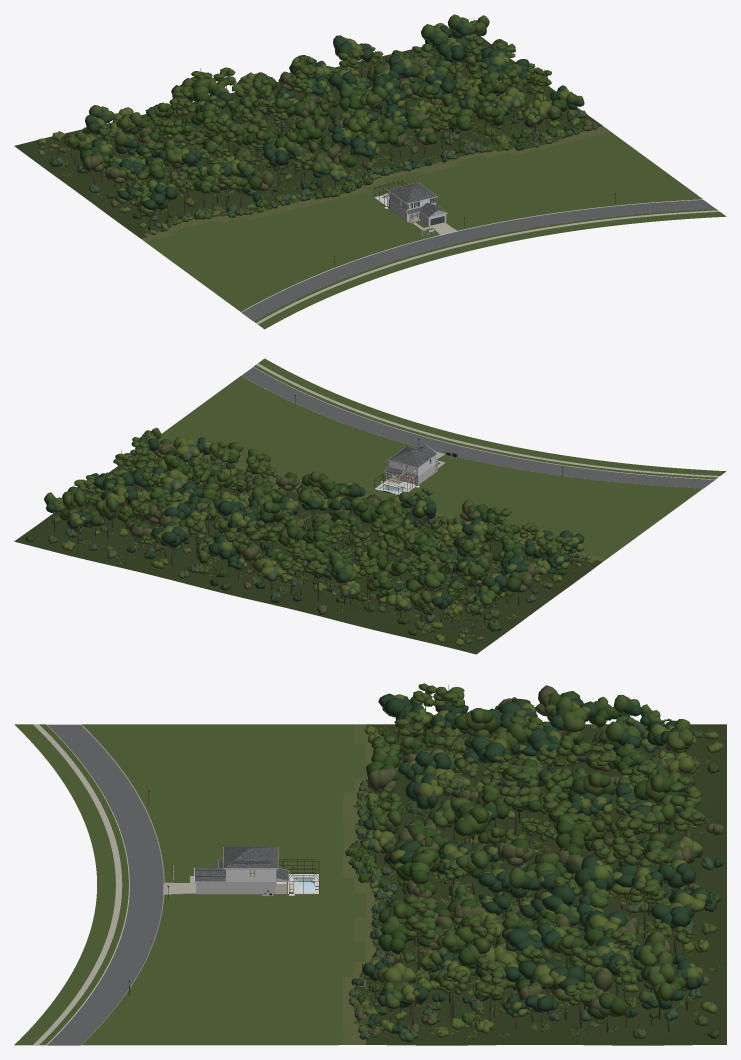
3 views of the same model, one above another, from view 1: azimuth 30°, elevation 25°; view 2: azimuth 150°, elevation 25°; view 3: azimuth 270°, elevation 25° (orthographic). The views are drawn at different scales.
Visible parts, largest first — view 1: Environment | continuous cleared lots and preserve floor - p, Environment | gently curved unmarked residential road, Environment | lot frontage grass to curb, Environment | opposite grass verge, Environment | opposite sidewalk only - no houses, Environment | lot-side low rolled curb, Environment | preserve tree 0132, Environment | preserve tree 0151; view 2: Environment | continuous cleared lots and preserve floor - p, Environment | gently curved unmarked residential road, Environment | lot frontage grass to curb, Environment | opposite grass verge, Environment | opposite sidewalk only - no houses, Environment | opposite low rolled curb, Environment | preserve tree 0003, Environment | preserve tree 0204, Environment | preserve tree 0044, Environment | preserve tree 0032, Environment | preserve tree 0257; view 3: Environment | continuous cleared lots and preserve floor - p, Environment | gently curved unmarked residential road, Environment | lot frontage grass to curb, Environment | opposite grass verge, Environment | opposite sidewalk only - no houses, Environment | preserve tree 0032, Environment | preserve tree 0184, Environment | preserve tree 0094, Environment | preserve tree 0228, Environment | preserve tree 0289, Environment | preserve tree 0147, Environment | preserve tree 0103 (+50 smaller).
Boxes of the visible parts, x1,y1,x2,y2 form: Environment | continuous cleared lots and preserve floor - p: [14, 33, 672, 289]; Environment | gently curved unmarked residential road: [241, 200, 714, 320]; Environment | lot frontage grass to curb: [211, 177, 702, 311]; Environment | opposite grass verge: [253, 208, 726, 329]; Environment | opposite sidewalk only - no houses: [256, 210, 719, 324]; Environment | lot-side low rolled curb: [241, 199, 703, 312]; Environment | preserve tree 0132: [292, 116, 322, 149]; Environment | preserve tree 0151: [350, 137, 379, 170]; Environment | continuous cleared lots and preserve floor - p: [14, 398, 672, 654]; Environment | gently curved unmarked residential road: [241, 367, 714, 488]; Environment | lot frontage grass to curb: [211, 376, 702, 510]; Environment | opposite grass verge: [254, 358, 726, 479]; Environment | opposite sidewalk only - no houses: [256, 363, 719, 477]; Environment | opposite low rolled curb: [253, 366, 715, 479]; Environment | preserve tree 0003: [505, 571, 533, 605]; Environment | preserve tree 0204: [155, 526, 186, 566]; Environment | preserve tree 0044: [417, 563, 445, 595]; Environment | preserve tree 0032: [462, 556, 490, 593]; Environment | preserve tree 0257: [173, 437, 199, 465]; Environment | continuous cleared lots and preserve floor - p: [167, 724, 726, 1045]; Environment | gently curved unmarked residential road: [47, 724, 163, 1045]; Environment | lot frontage grass to curb: [82, 724, 166, 1045]; Environment | opposite grass verge: [14, 724, 128, 1045]; Environment | opposite sidewalk only - no houses: [33, 724, 122, 1044]; Environment | preserve tree 0032: [550, 696, 587, 734]; Environment | preserve tree 0184: [574, 855, 614, 890]; Environment | preserve tree 0094: [405, 773, 443, 821]; Environment | preserve tree 0228: [378, 915, 414, 963]; Environment | preserve tree 0289: [587, 991, 628, 1032]; Environment | preserve tree 0147: [555, 814, 590, 848]; Environment | preserve tree 0103: [634, 774, 679, 833].
Bounding box in the file's own units: 162 × 17.24 × 152.
78 materials, 1 textured.
